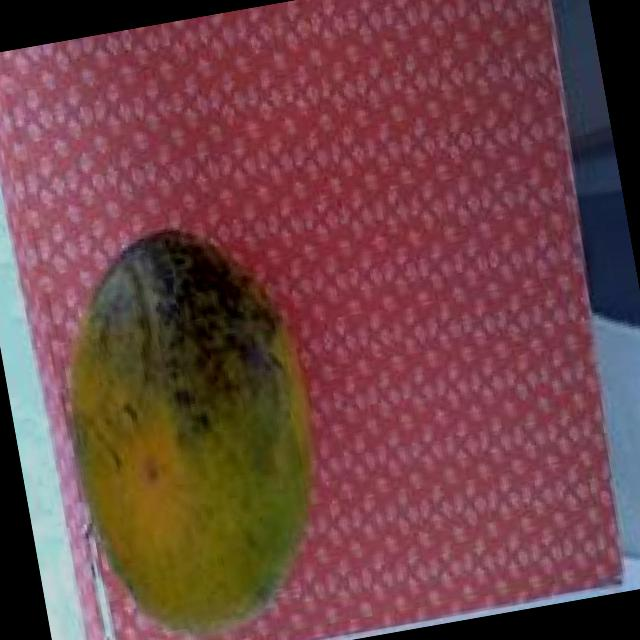Orange: (36, 211, 346, 640)
